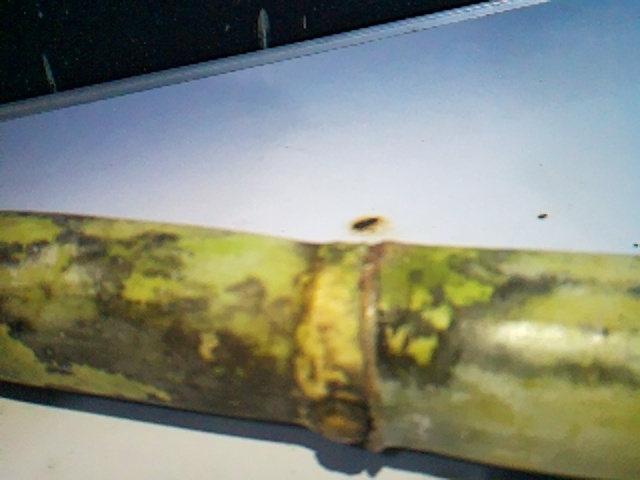Good Sugarcane: (0, 212, 637, 480)
Node: (287, 230, 409, 457)
